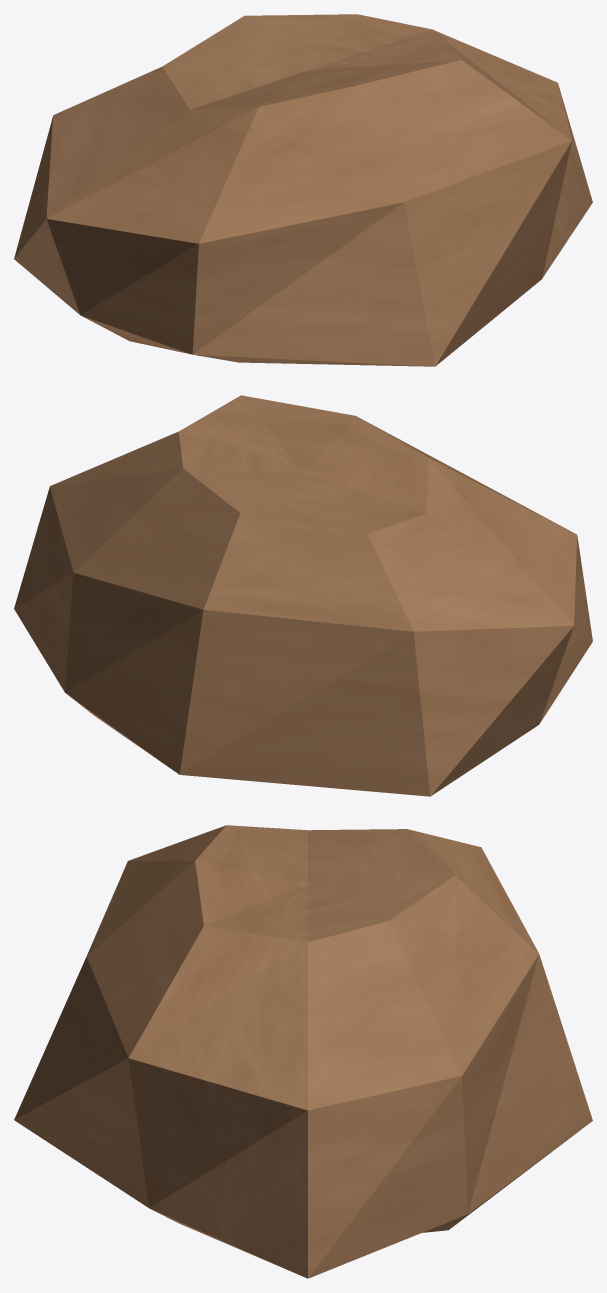
The model's file is SM_CN_Sandstone_A_LOD1.fbx.
3 renders of one model, top to bottom at view 1: azimuth 30°, elevation 25°; view 2: azimuth 150°, elevation 25°; view 3: azimuth 270°, elevation 25°, orthographic. The views are drawn at different scales.
Visible parts, largest first — view 1: SM_CN_Sandstone_A_LOD1; view 2: SM_CN_Sandstone_A_LOD1; view 3: SM_CN_Sandstone_A_LOD1.
Part boxes in pixels (x1=…): SM_CN_Sandstone_A_LOD1: x1=14, y1=14, x2=592, y2=366; SM_CN_Sandstone_A_LOD1: x1=14, y1=395, x2=592, y2=796; SM_CN_Sandstone_A_LOD1: x1=14, y1=825, x2=592, y2=1278.
Bounding box in the file's own units: 1.2 × 0.9508 × 0.52.
